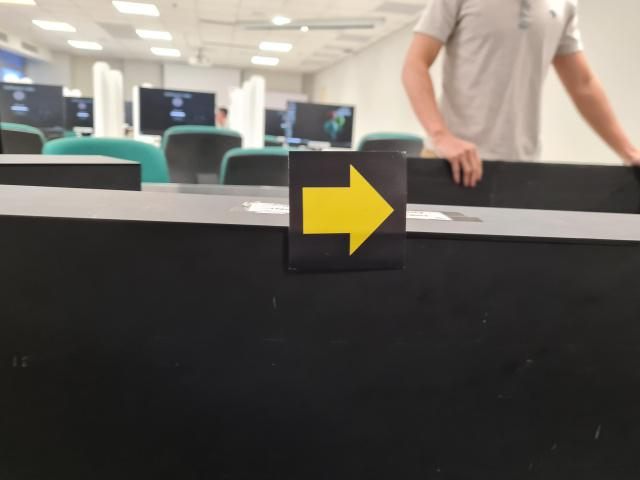right: (287, 149, 409, 273)
